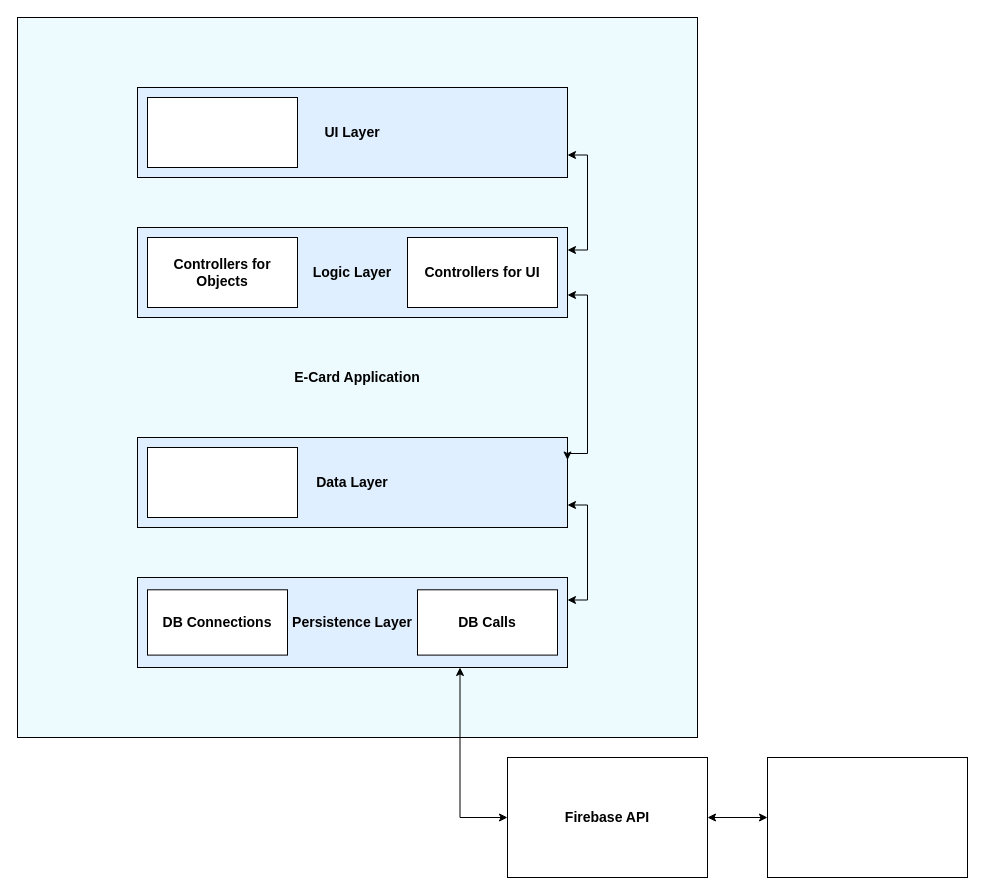
This 985x895 diagram has some shape labels left out. Here are the shapes that lost their labels. From the top down, the centre of each, then its label:
At (x=222, y=132): "User Interface Activities".
At (x=222, y=482): "Objects".
At (x=867, y=817): "Firebase DB".
